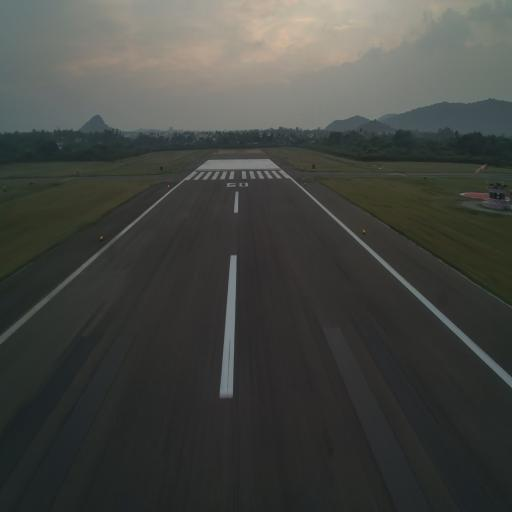on: (360, 226, 369, 237), (98, 234, 104, 243), (303, 180, 307, 189), (166, 183, 170, 190)
